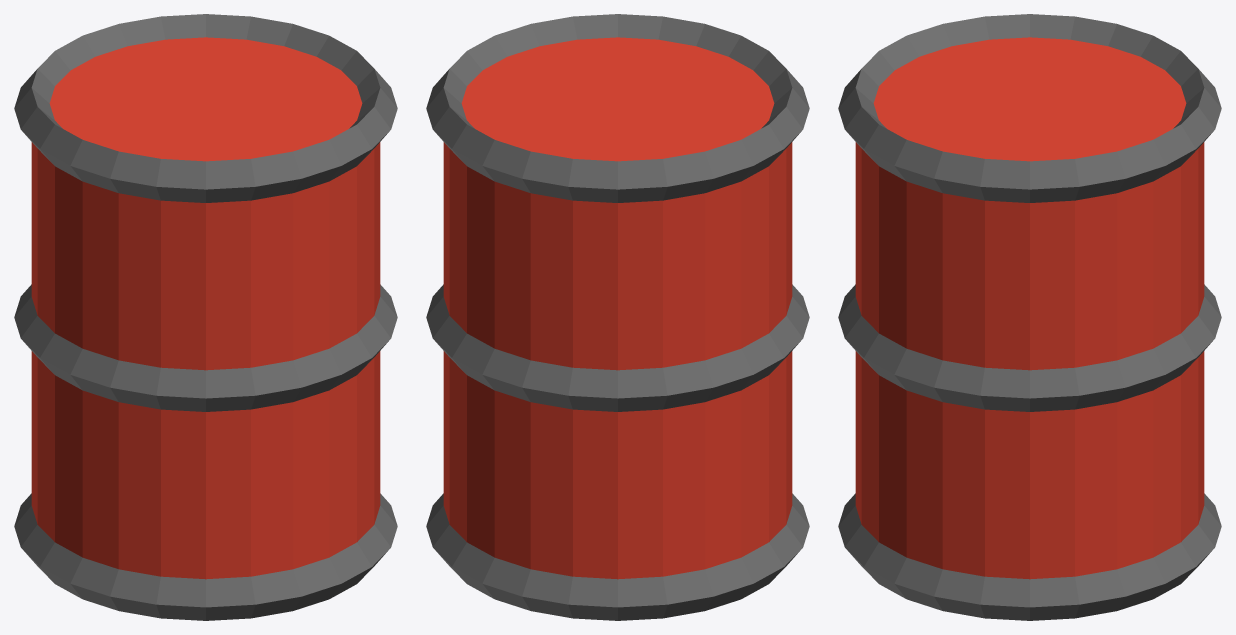
The model's file is barrel.fbx.
3 views of the same model, side by side, from view 1: azimuth 30°, elevation 25°; view 2: azimuth 150°, elevation 25°; view 3: azimuth 270°, elevation 25° (orthographic).
Parts seen in each view (by area): view 1: Cylinder; view 2: Cylinder; view 3: Cylinder.
Boxes of the visible parts, bbox=[...] form: Cylinder: bbox=[14, 14, 397, 620]; Cylinder: bbox=[426, 14, 809, 620]; Cylinder: bbox=[838, 14, 1221, 620].
Size of the model in its own units: 220 by 291 by 220.
